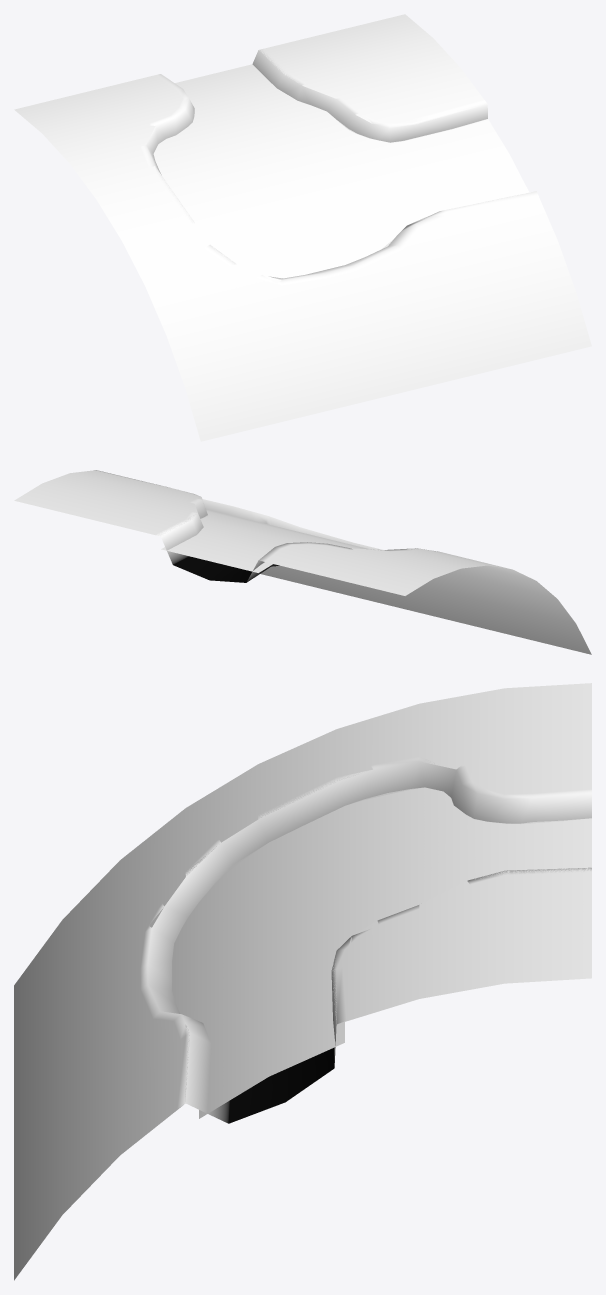
The model's file is grd_Rwn_P_1.dae.
3 renders of one model, top to bottom at view 1: azimuth 30°, elevation 25°; view 2: azimuth 150°, elevation 25°; view 3: azimuth 270°, elevation 25°, orthographic. The views are drawn at different scales.
Visible parts, largest first — view 1: grd_Rwn_P_1; view 2: grd_Rwn_P_1; view 3: grd_Rwn_P_1.
Part boxes in pixels (bbox=[...]): grd_Rwn_P_1: bbox=[14, 14, 591, 441]; grd_Rwn_P_1: bbox=[14, 470, 591, 654]; grd_Rwn_P_1: bbox=[14, 683, 591, 1280].
Size of the model in its own units: 512 by 244 by 423.
Materials: 4 (1 with a texture image).
